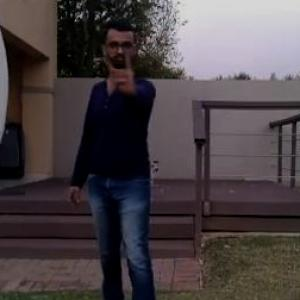takeoff-hand: (98, 42, 138, 101)
